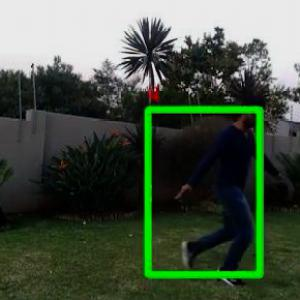land: (144, 84, 278, 296)
